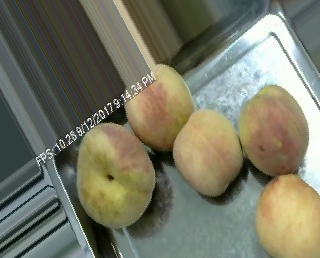Peach: (76, 120, 154, 228), (238, 84, 309, 176), (122, 62, 193, 149), (171, 107, 241, 195), (254, 175, 320, 256)
